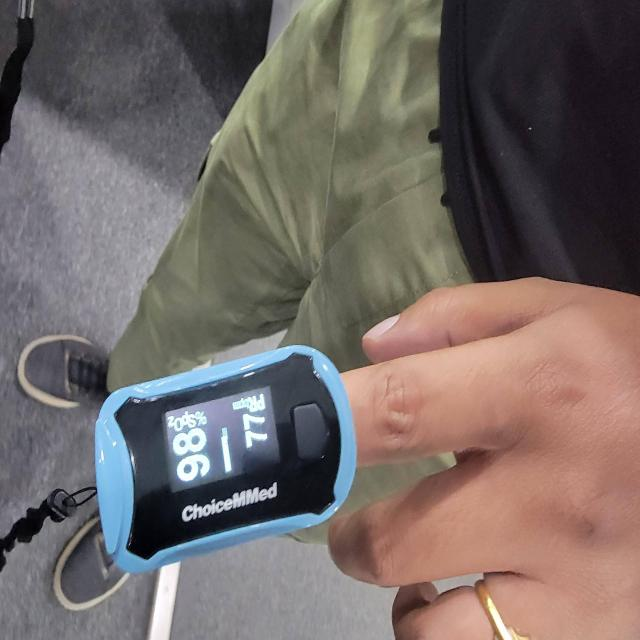spo2: (93, 346, 358, 577)
